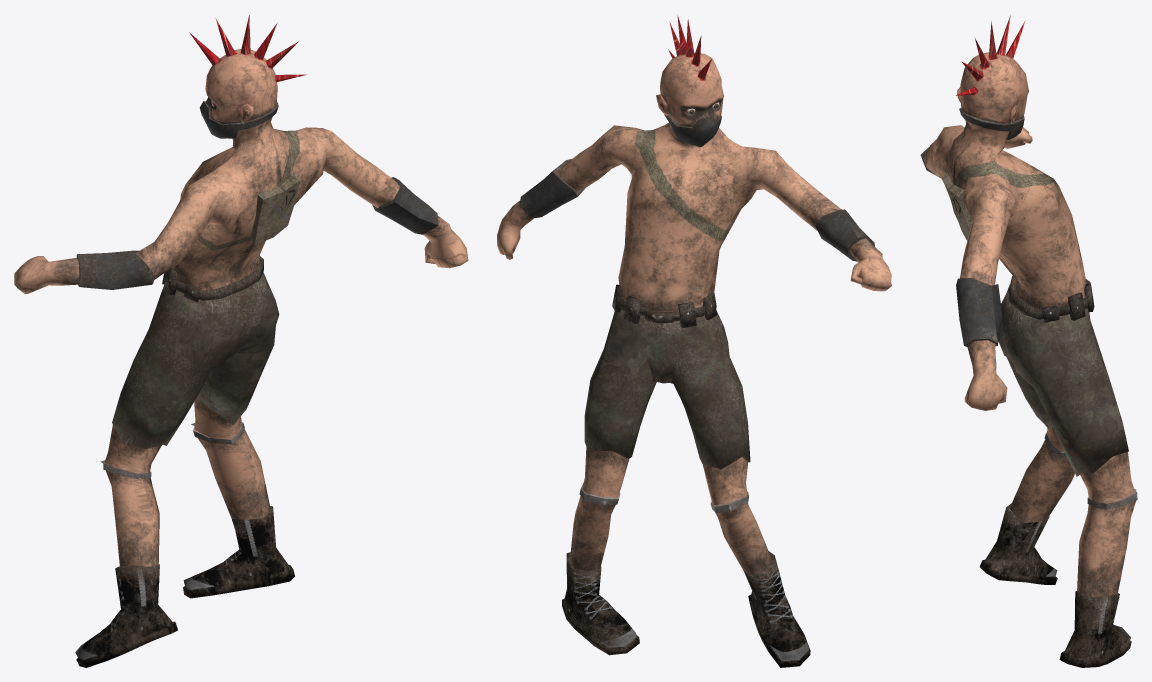
File: Anim_ataque_f3_npc2.0036.obj
3 views of the same model, side by side, from view 1: azimuth 30°, elevation 25°; view 2: azimuth 150°, elevation 25°; view 3: azimuth 270°, elevation 25° (orthographic). The views are drawn at different scales.
Visible parts, largest first — view 1: polySurface1; view 2: polySurface1; view 3: polySurface1.
Part boxes in pixels (<box>): polySurface1: <box>14,15,468,667</box>; polySurface1: <box>497,15,891,667</box>; polySurface1: <box>920,15,1137,667</box>.
Bounding box in the file's own units: 7.13 × 9.98 × 3.13.
